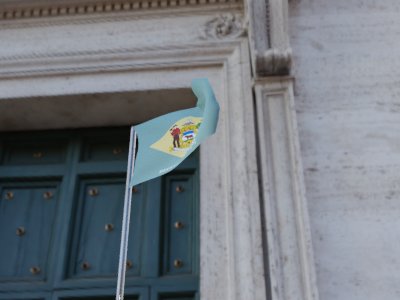Delaware flag: (127, 76, 221, 189)
